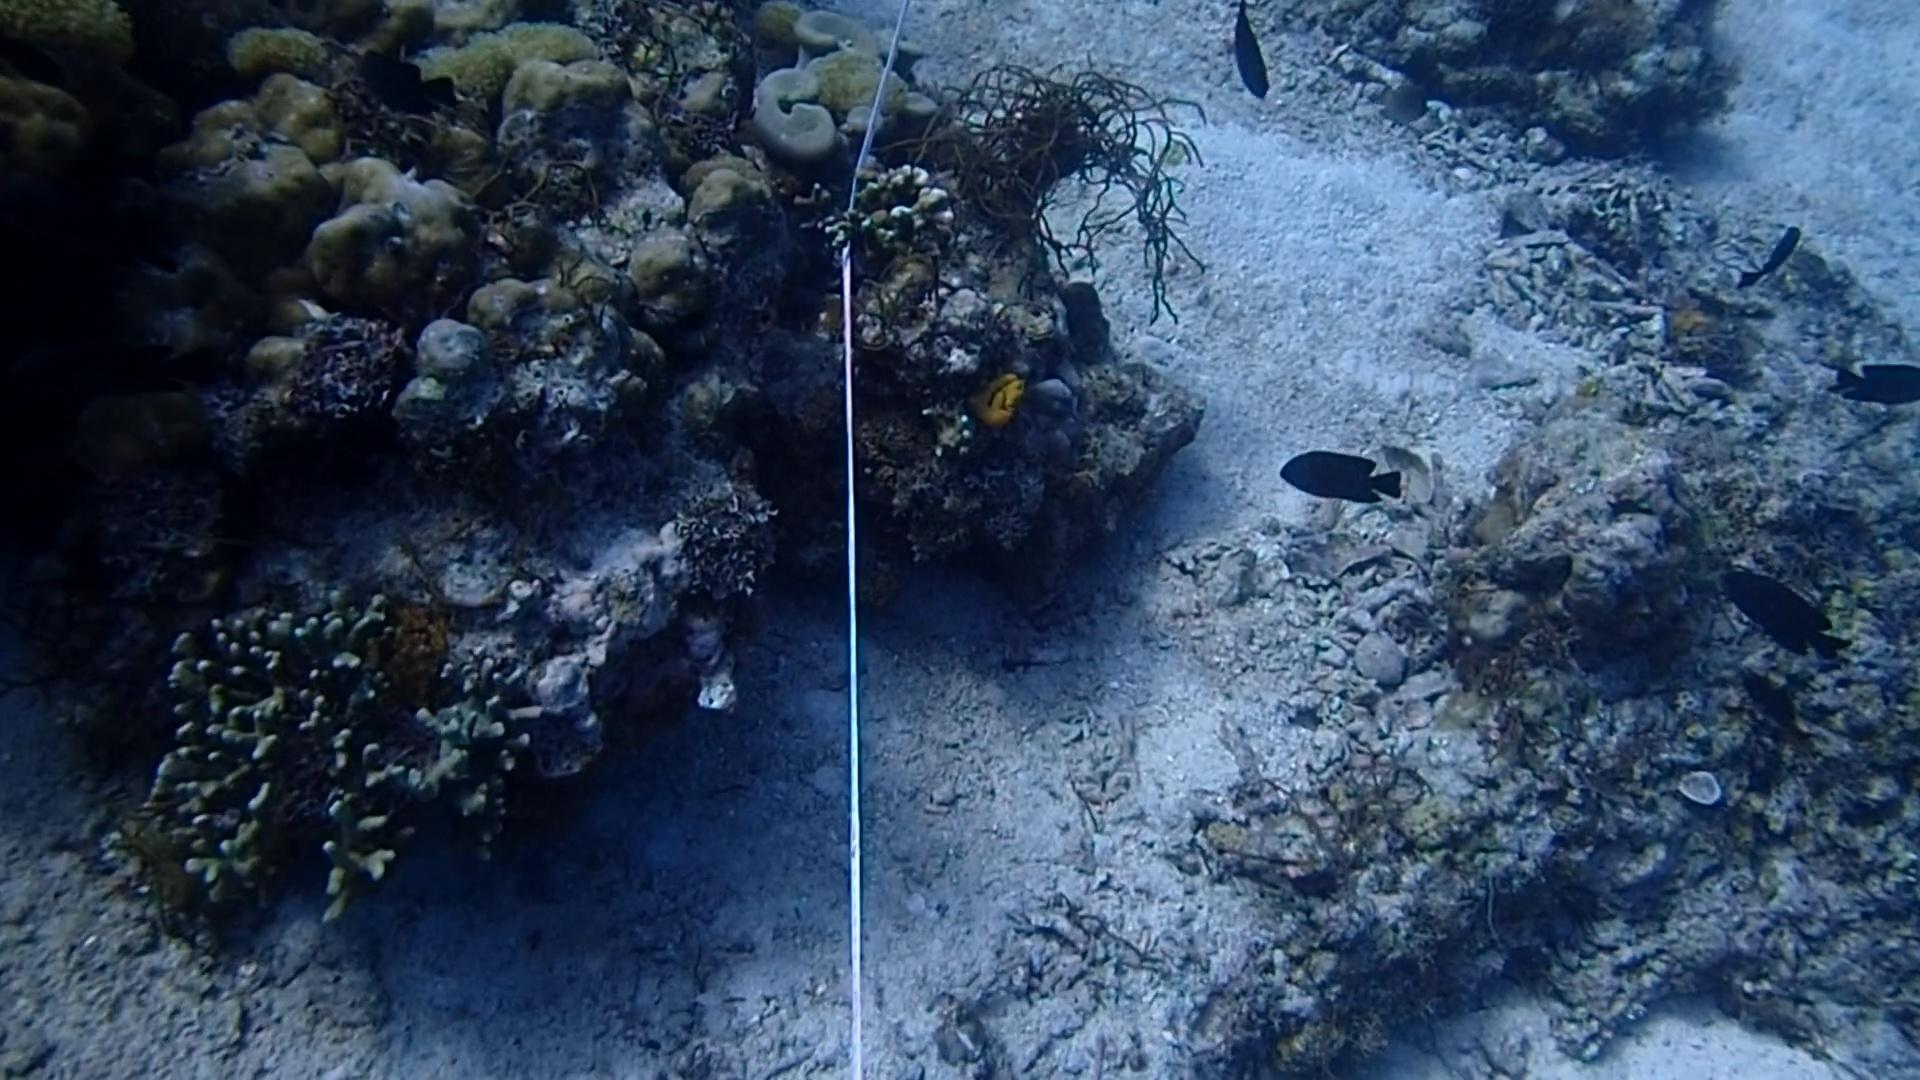Dark Fish: (1697, 550, 1863, 663), (1263, 431, 1411, 521), (1193, 3, 1307, 109), (1729, 654, 1815, 742), (1727, 212, 1811, 299), (1829, 349, 1920, 422)
Light Fish: (1381, 76, 1444, 138)
